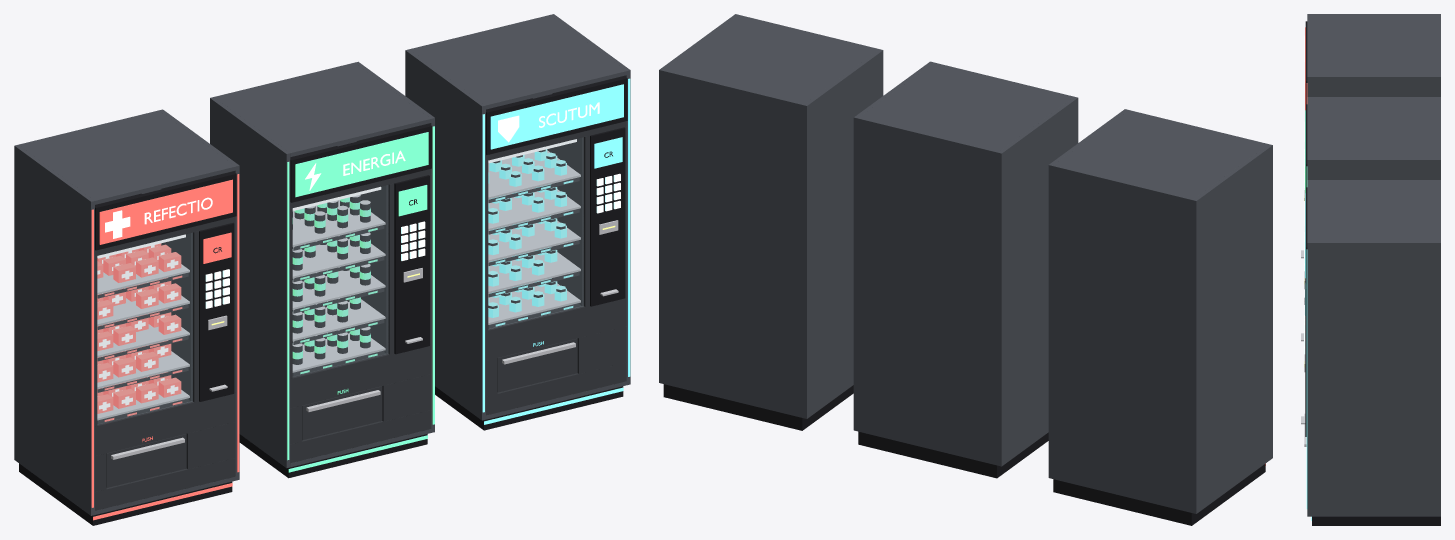
File: vending.glb
The picture shows the model from 3 angles, left to right: view 1: azimuth 30°, elevation 25°; view 2: azimuth 150°, elevation 25°; view 3: azimuth 270°, elevation 25°; orthographic projection. The views are drawn at different scales.
Parts seen in each view (by area): view 1: vending_repair, vending_shield, vending_stamina, vending_repair_glass, vending_shield_glass, vending_stamina_glass; view 2: vending_repair, vending_stamina, vending_shield; view 3: vending_shield, vending_stamina, vending_repair.
Part boxes in pixels (x1,y1,x2,y2): vending_repair: [14, 109, 239, 525]; vending_shield: [405, 14, 630, 430]; vending_stamina: [210, 61, 434, 478]; vending_repair_glass: [97, 233, 192, 424]; vending_shield_glass: [488, 137, 583, 328]; vending_stamina_glass: [293, 185, 388, 376]; vending_repair: [1048, 109, 1272, 525]; vending_stamina: [853, 61, 1078, 478]; vending_shield: [659, 14, 883, 430]; vending_shield: [1301, 180, 1440, 525]; vending_stamina: [1301, 97, 1440, 355]; vending_repair: [1301, 14, 1440, 272].
Size of the model in its own units: 3.45 by 2 by 0.89.
